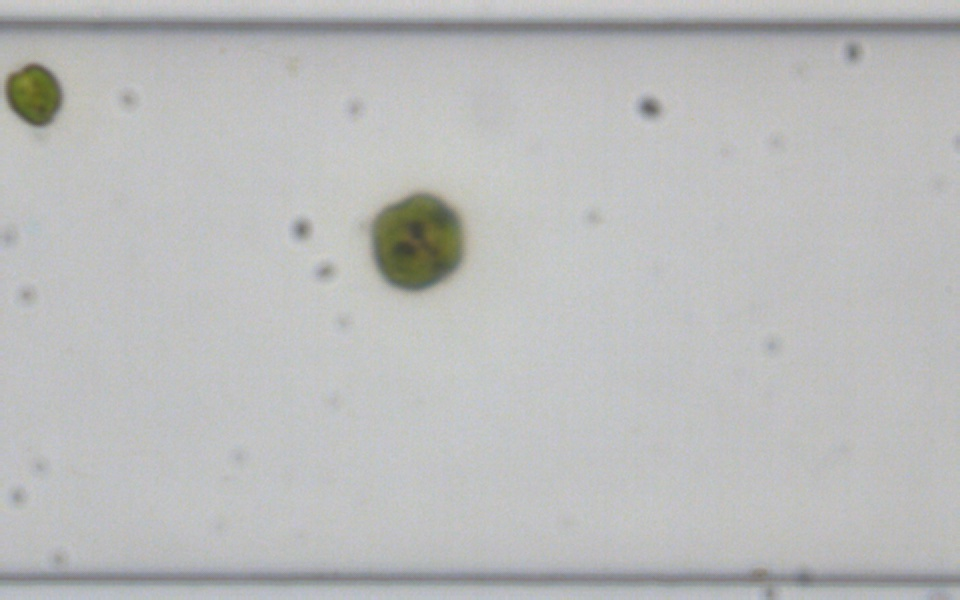Haematococcus: (365, 188, 468, 293)
Platymonas: (3, 60, 66, 129)
